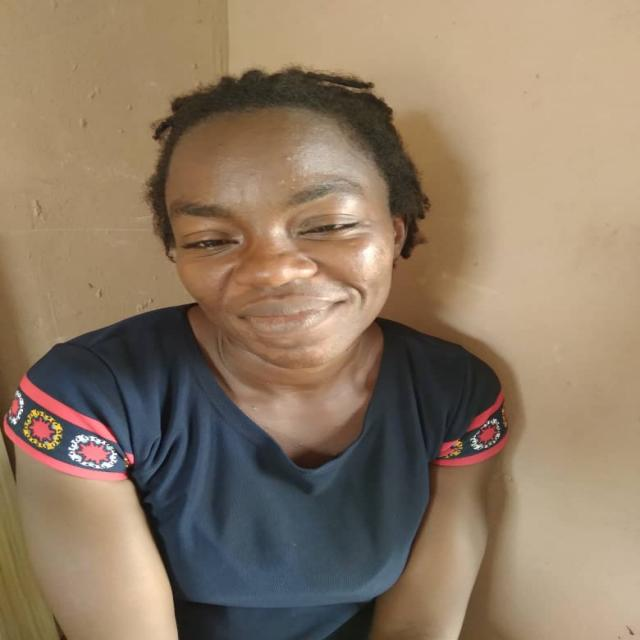happy: (158, 97, 404, 369)
